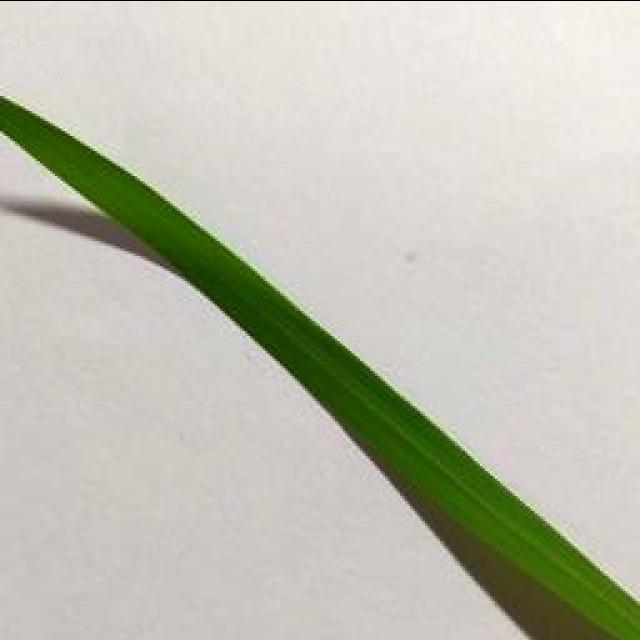Healthy: (0, 92, 640, 640)
